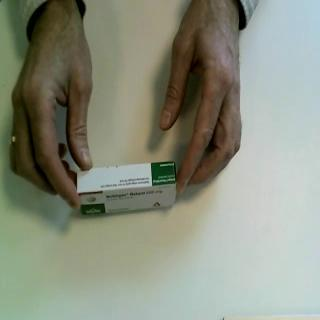nobligan_retard200mg: (77, 159, 179, 217)
